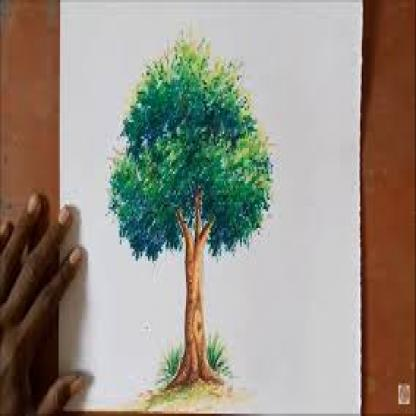branch_cut: (173, 189, 213, 255)
crown_dizzy: (106, 39, 277, 261)
knot: (192, 304, 204, 344)
root_upside: (167, 362, 226, 406)
trunk_bark: (183, 264, 207, 356)
